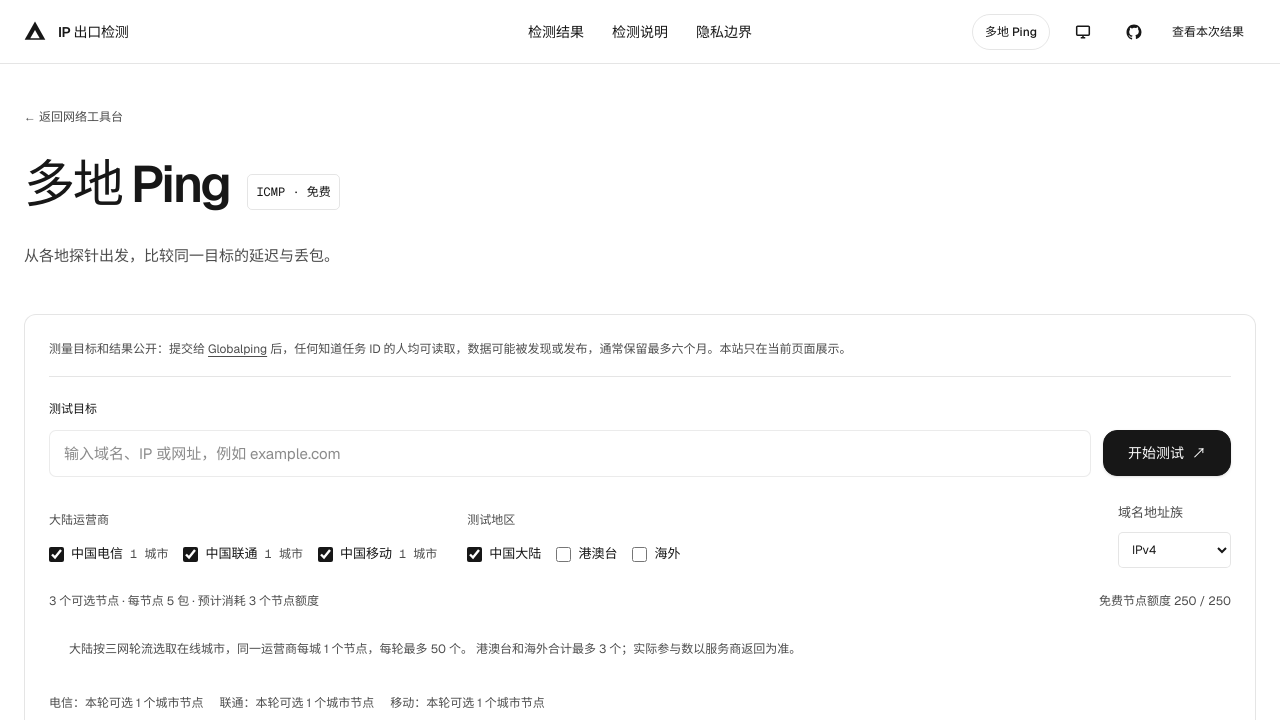
多地 Ping 独立页面 › IPv6 字面地址按自身地址族提交，不显示会误导为 IPv4 的域名选择器
Expected: the text "3 个可选节点 · 每节点 5 包 · 预计消耗 3 个节点额度" is shown, left=49, top=590, right=319, bottom=614
Click the field labelled "测试目标" at (570, 454), box left=49, top=430, right=1091, bottom=478
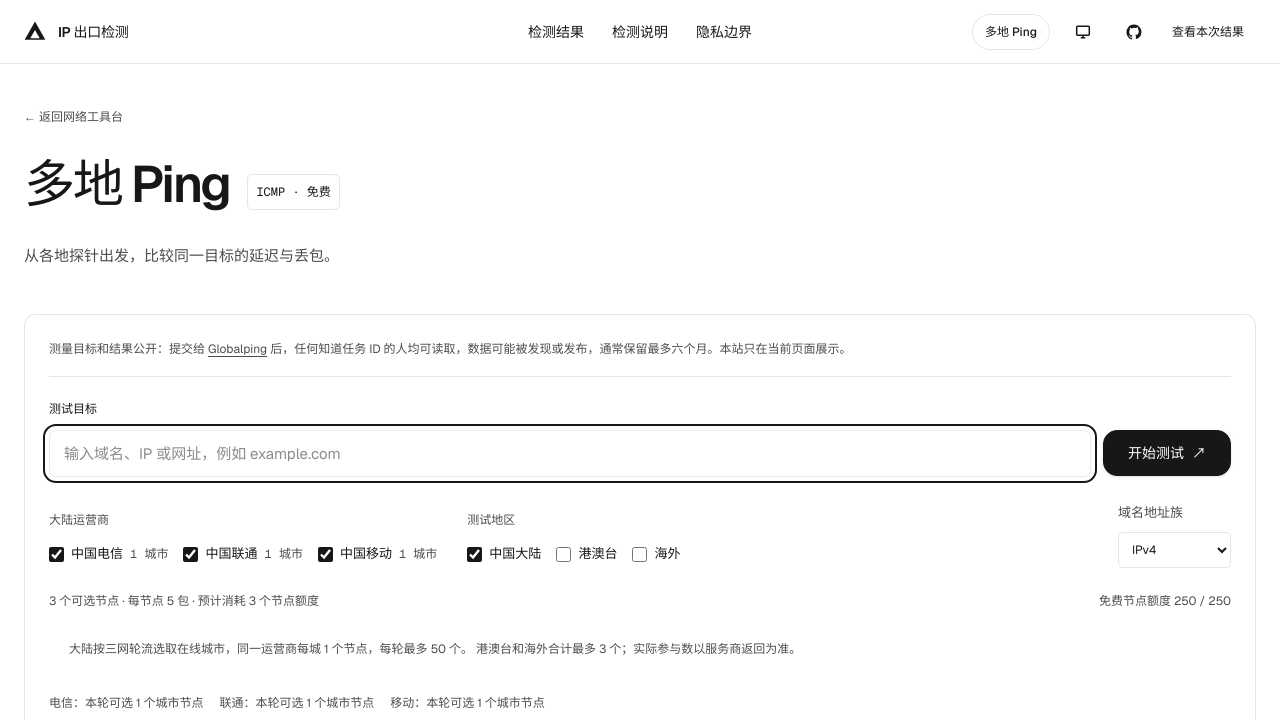
Type keys "https://[2606:4700:4700::1111]:8443/private?q=secret"
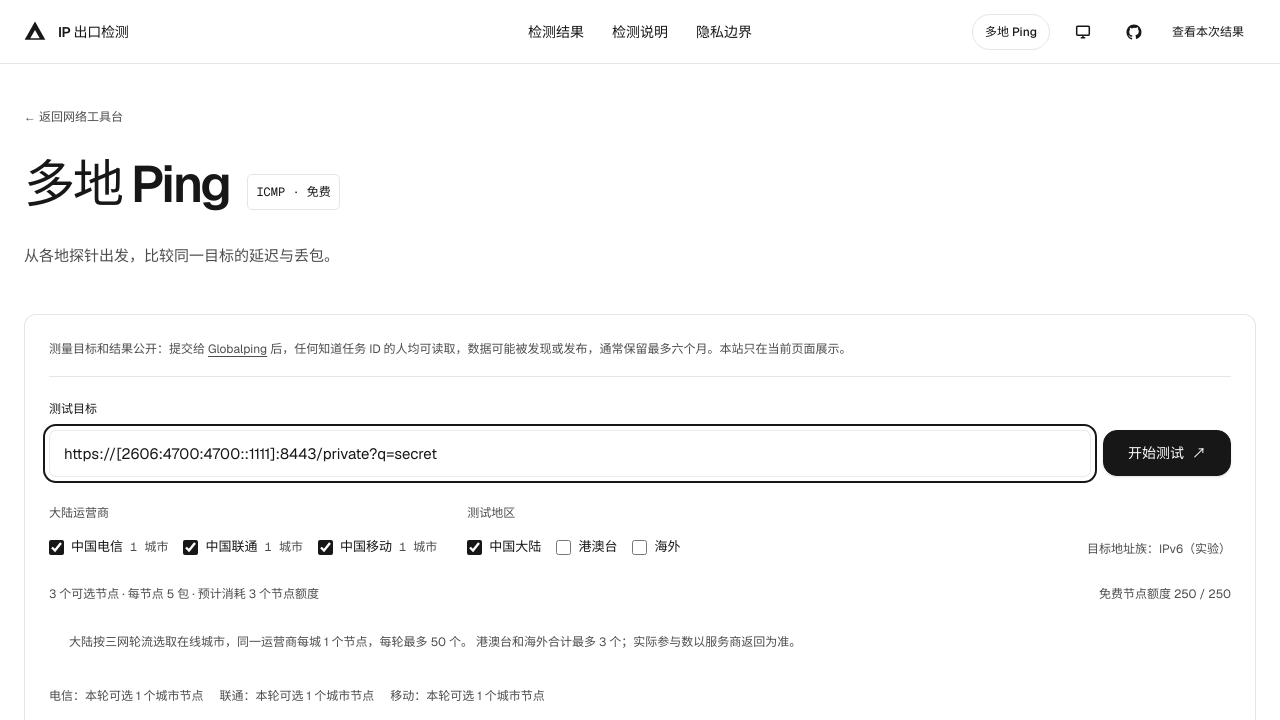
Now the label "域名地址族" is gone
Click the button "开始测试 ↗" at (1167, 454), box left=1103, top=430, right=1231, bottom=476
(page scrolled)
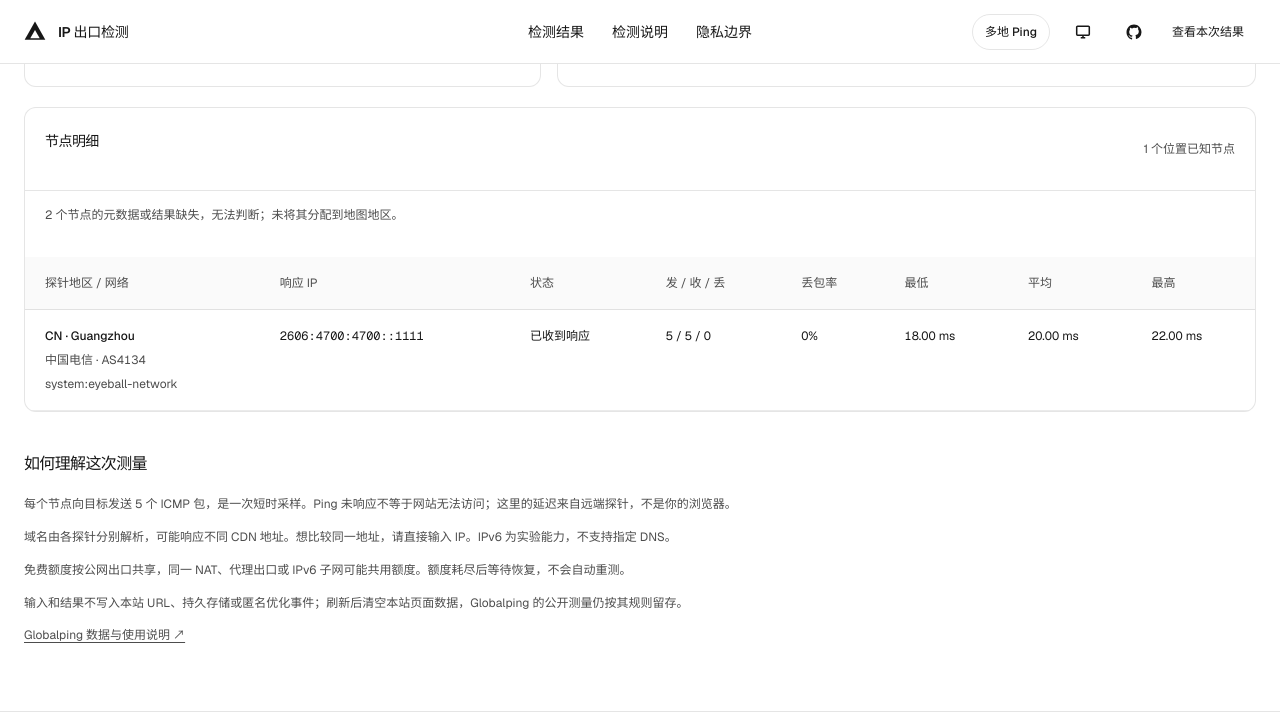
Now the text "2606:4700:4700::1111" is shown, box left=260, top=310, right=510, bottom=410
